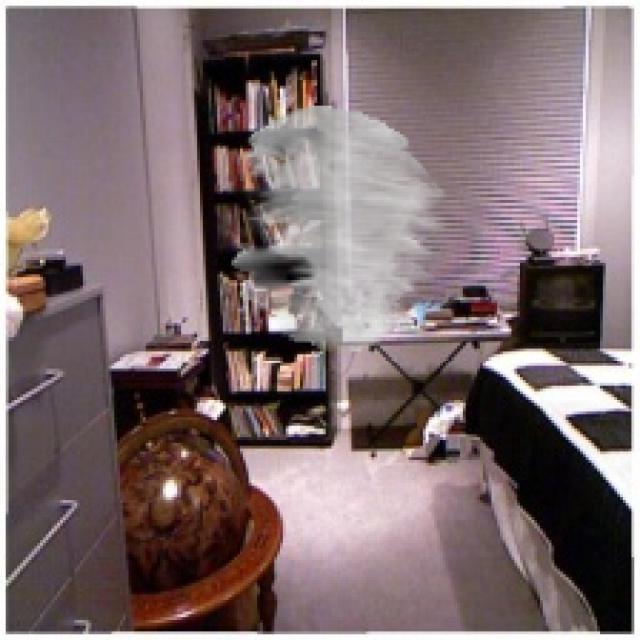Smoke: (232, 106, 448, 352)
